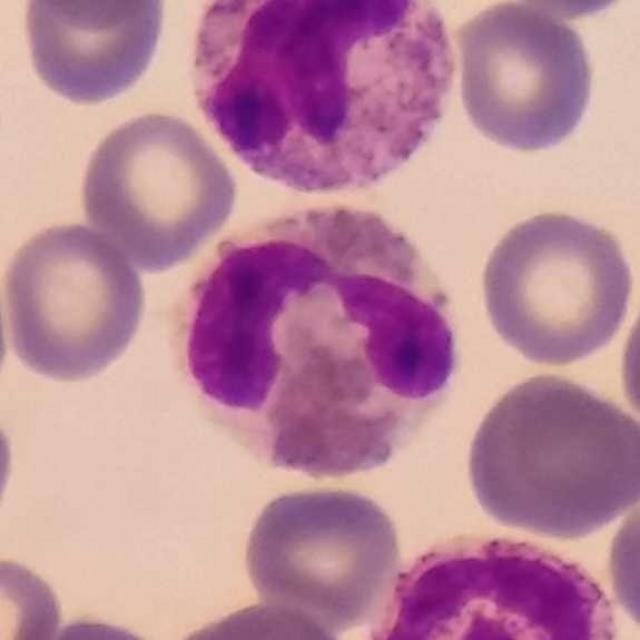eosino: (163, 205, 461, 485), (188, 0, 460, 194), (365, 526, 622, 640)
